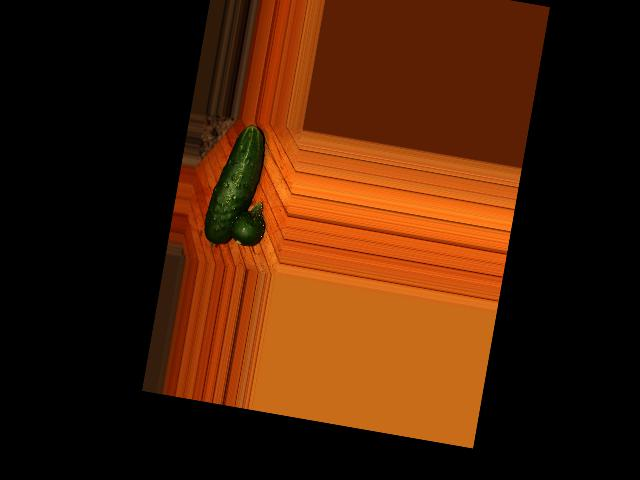cucumber: (201, 119, 269, 249)
